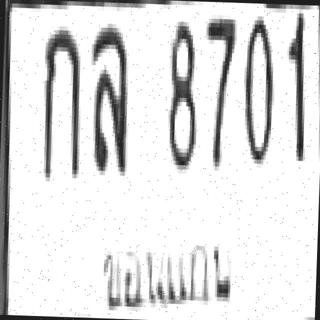A01: (40, 23, 82, 180)
A36: (86, 23, 131, 172)
N00: (239, 11, 275, 159)
N01: (283, 11, 306, 159)
N07: (199, 14, 235, 167)
N08: (164, 17, 198, 165)
P18: (93, 221, 242, 320)
